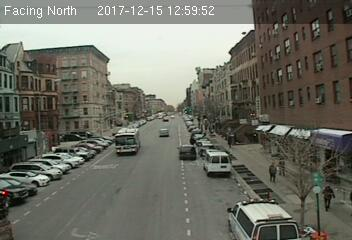bus: (115, 127, 141, 154)
car: (176, 144, 197, 160), (158, 127, 169, 136)
pedestrian: (269, 160, 278, 185)
police: (226, 196, 305, 240)
truck: (205, 151, 232, 177)
